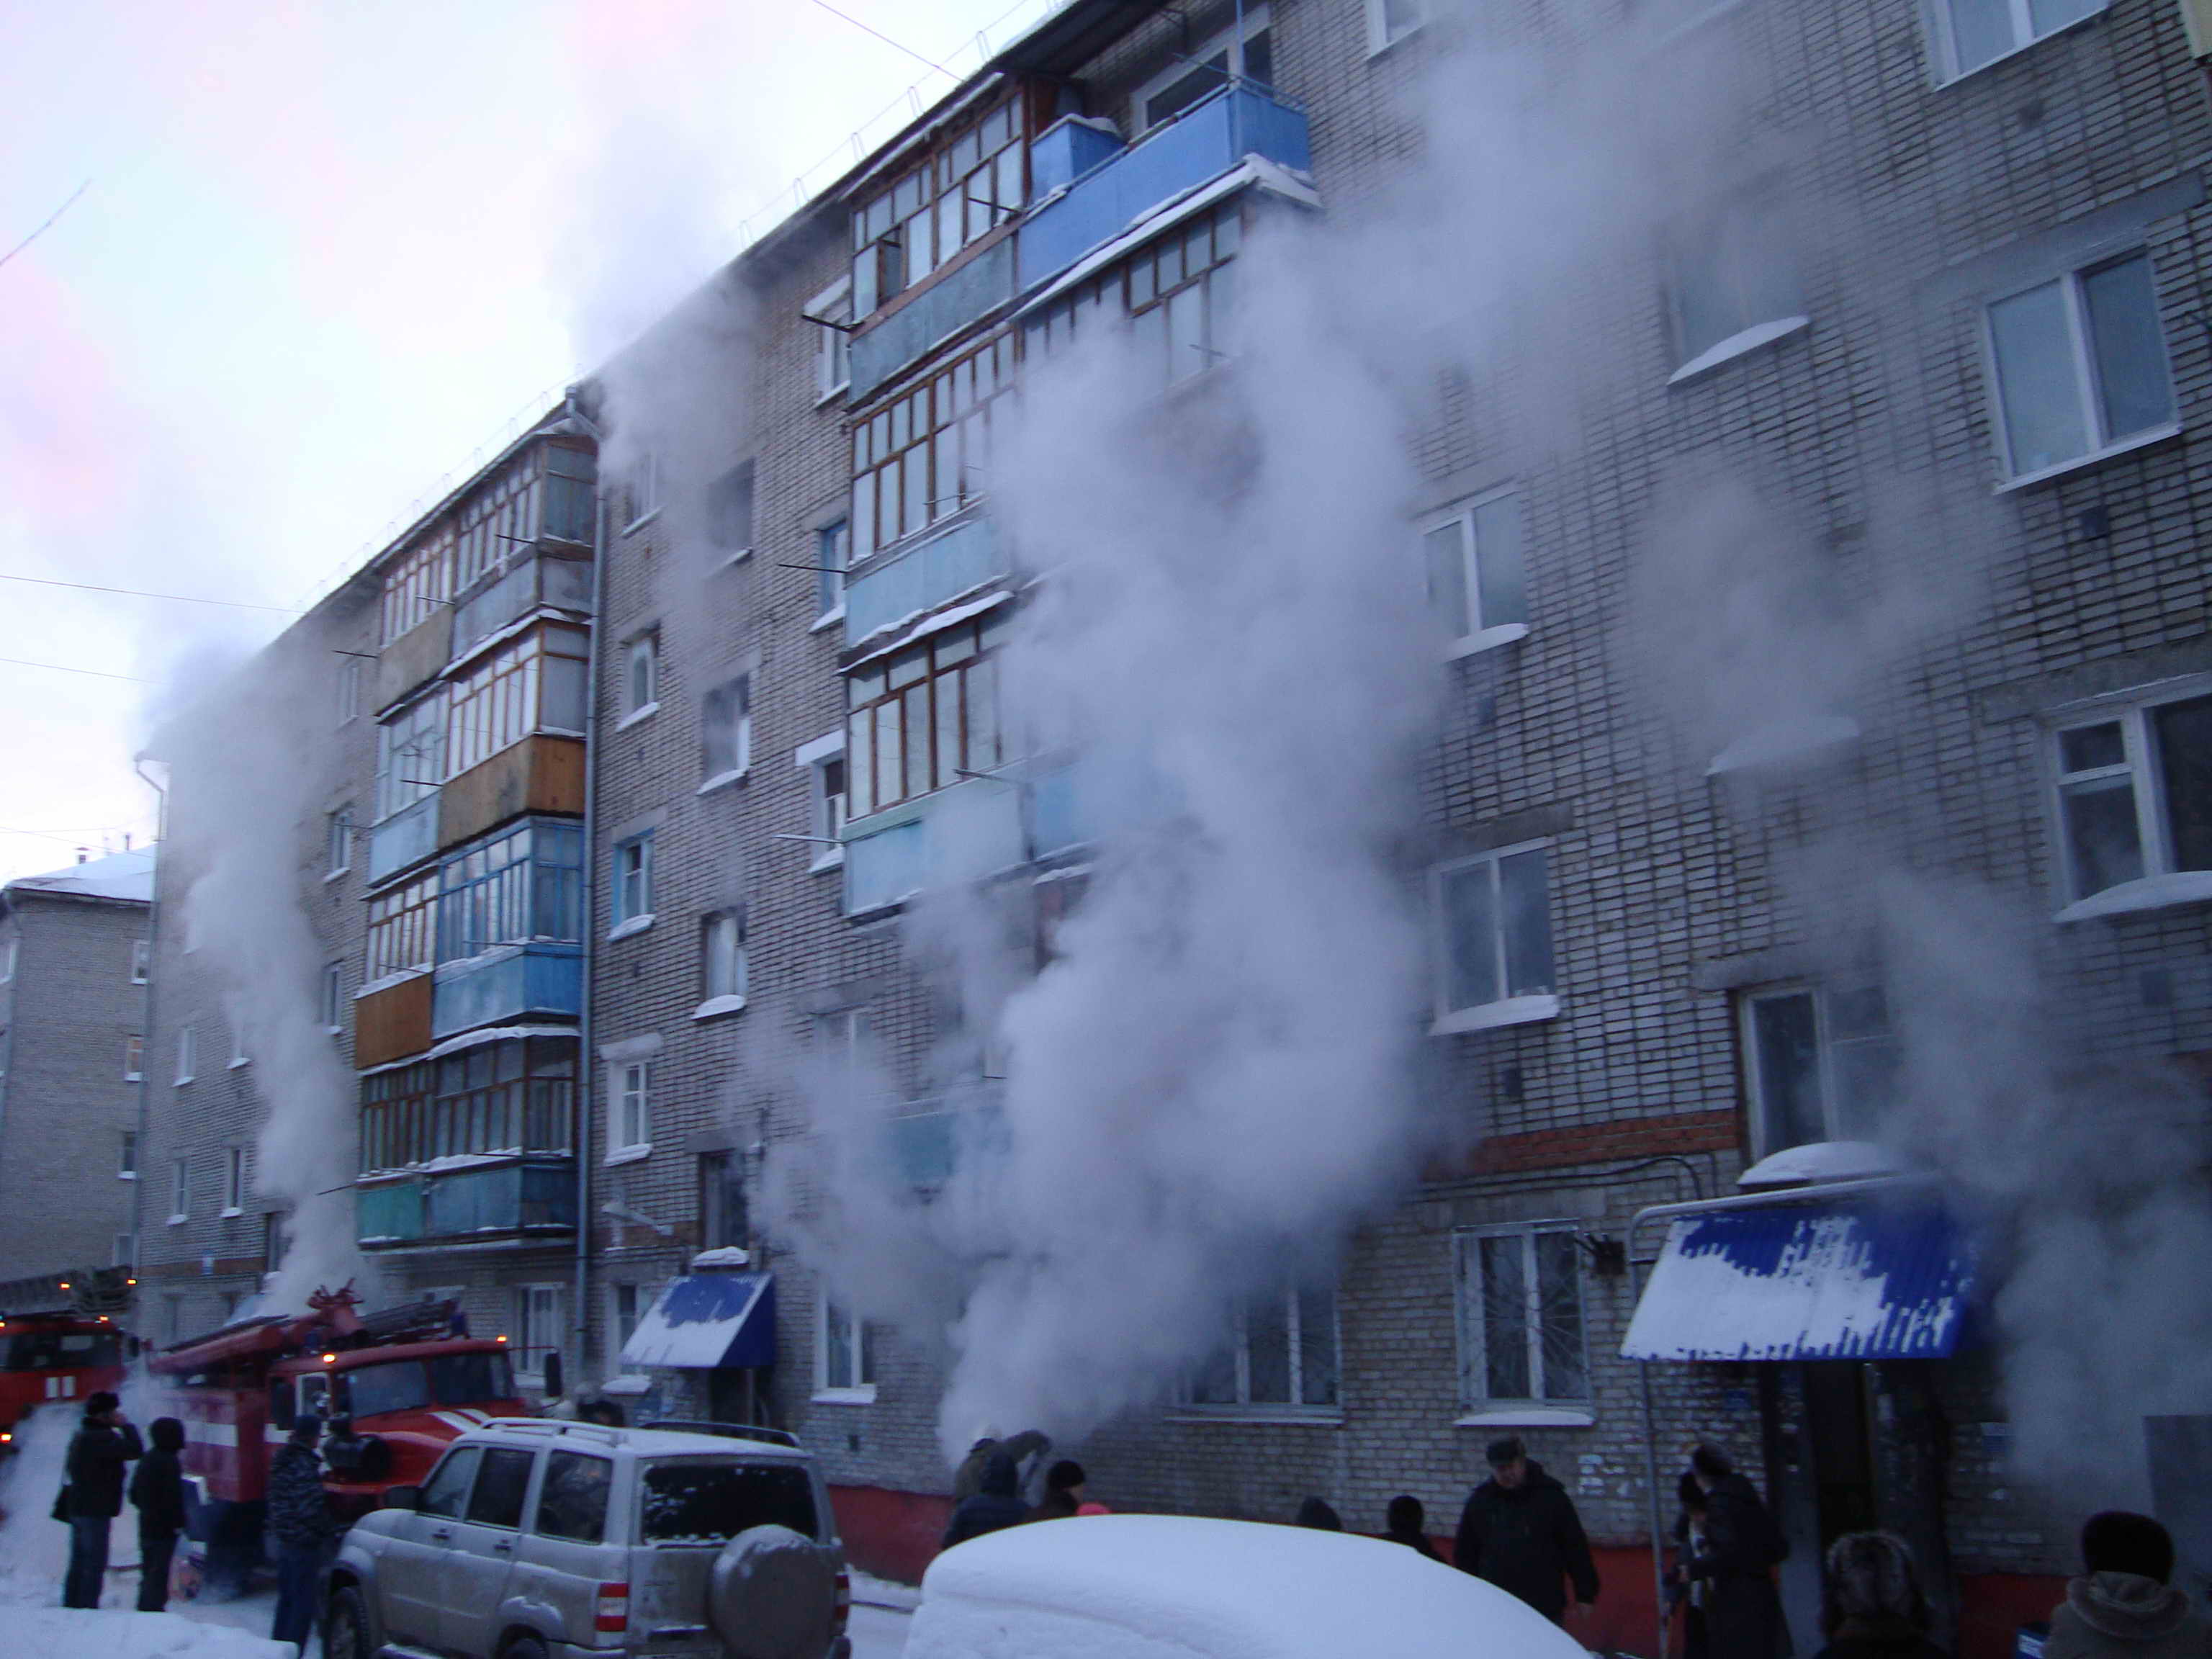fire: (911, 345, 1453, 1431), (1656, 490, 2212, 1392), (96, 650, 421, 1302)
